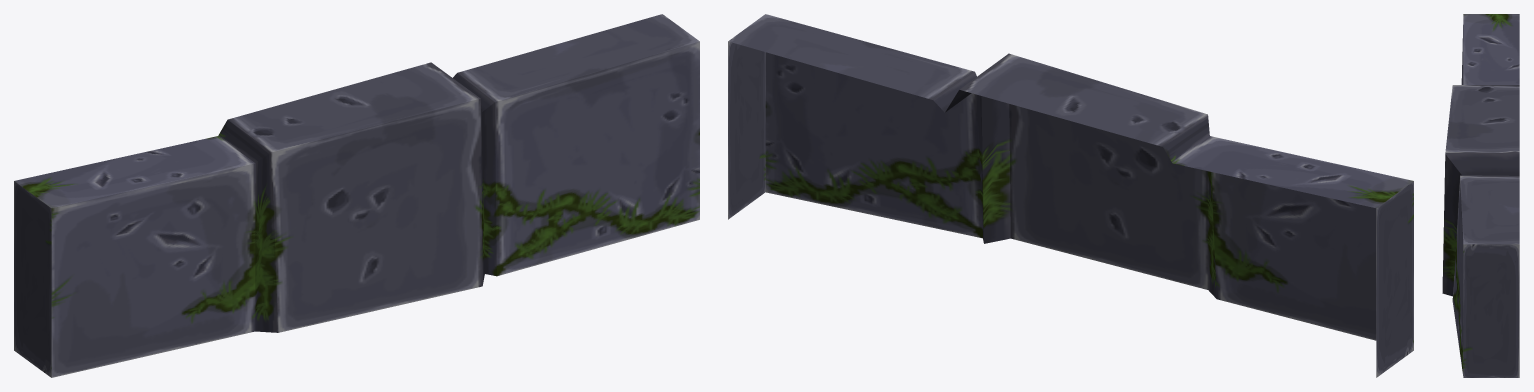
Rendered from MOD_WallTrim_01_E_straight_half_L.fbx.
3 views of the same model, side by side, from view 1: azimuth 30°, elevation 25°; view 2: azimuth 150°, elevation 25°; view 3: azimuth 270°, elevation 25° (orthographic). The views are drawn at different scales.
Parts seen in each view (by area): view 1: MOD_WallTrim_01_E_straight_half_L; view 2: MOD_WallTrim_01_E_straight_half_L; view 3: MOD_WallTrim_01_E_straight_half_L.
Part boxes in pixels (box(x1,y1,x2,y2)): MOD_WallTrim_01_E_straight_half_L: box(14, 14, 699, 377); MOD_WallTrim_01_E_straight_half_L: box(728, 14, 1413, 377); MOD_WallTrim_01_E_straight_half_L: box(1442, 14, 1519, 377).
Bounding box in the file's own units: 200 × 54.97 × 27.47.
